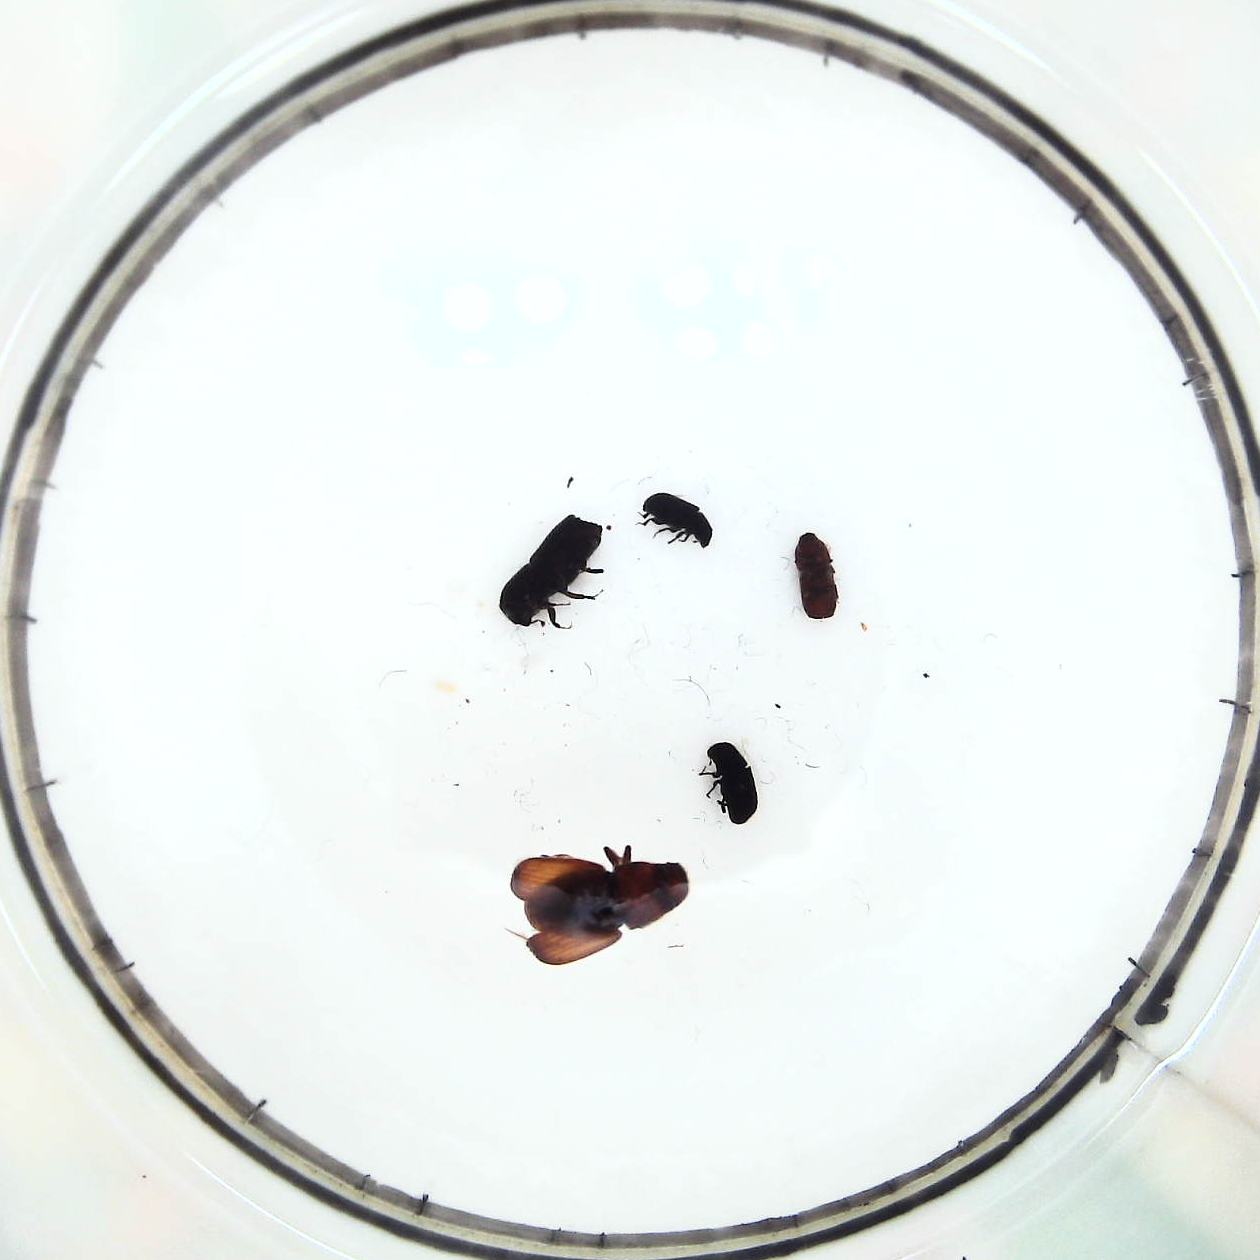Boerner: (494, 512, 601, 627)
Leconte: (510, 854, 691, 966)
Linnaeus: (789, 530, 840, 622)
armandi: (702, 738, 757, 822)
coleoptera: (643, 488, 715, 552)
